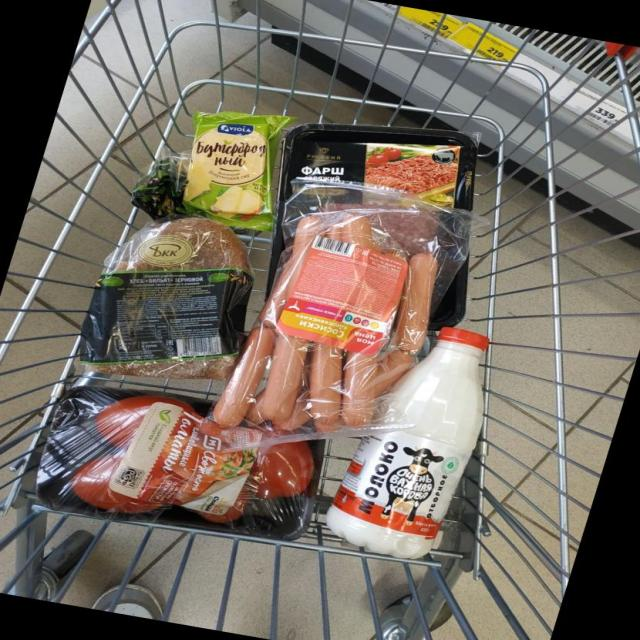Bread: (78, 157, 252, 378)
Cheese: (182, 111, 294, 231)
Meat: (268, 122, 478, 285), (428, 266, 468, 328)
Milk: (325, 327, 487, 558)
Sausages: (200, 179, 468, 449)
Tomatoes: (70, 451, 161, 513), (94, 395, 194, 447), (251, 441, 314, 499), (198, 486, 249, 523)
